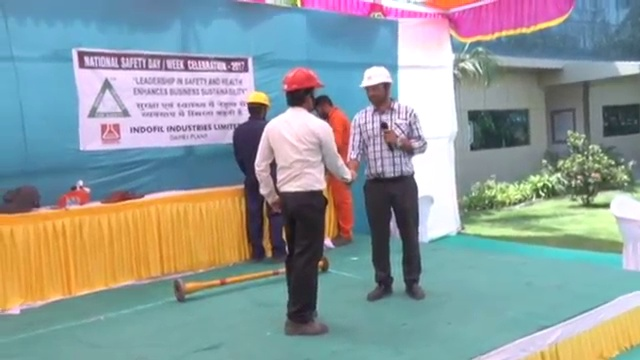helmet: (279, 65, 327, 90), (357, 64, 395, 87), (245, 90, 272, 109)
helmet_off: (312, 94, 336, 118)
helmet_on: (281, 67, 324, 116), (357, 64, 396, 110), (243, 88, 271, 122)
person: (254, 65, 353, 338), (348, 62, 430, 302), (233, 89, 288, 261), (314, 92, 355, 249)
